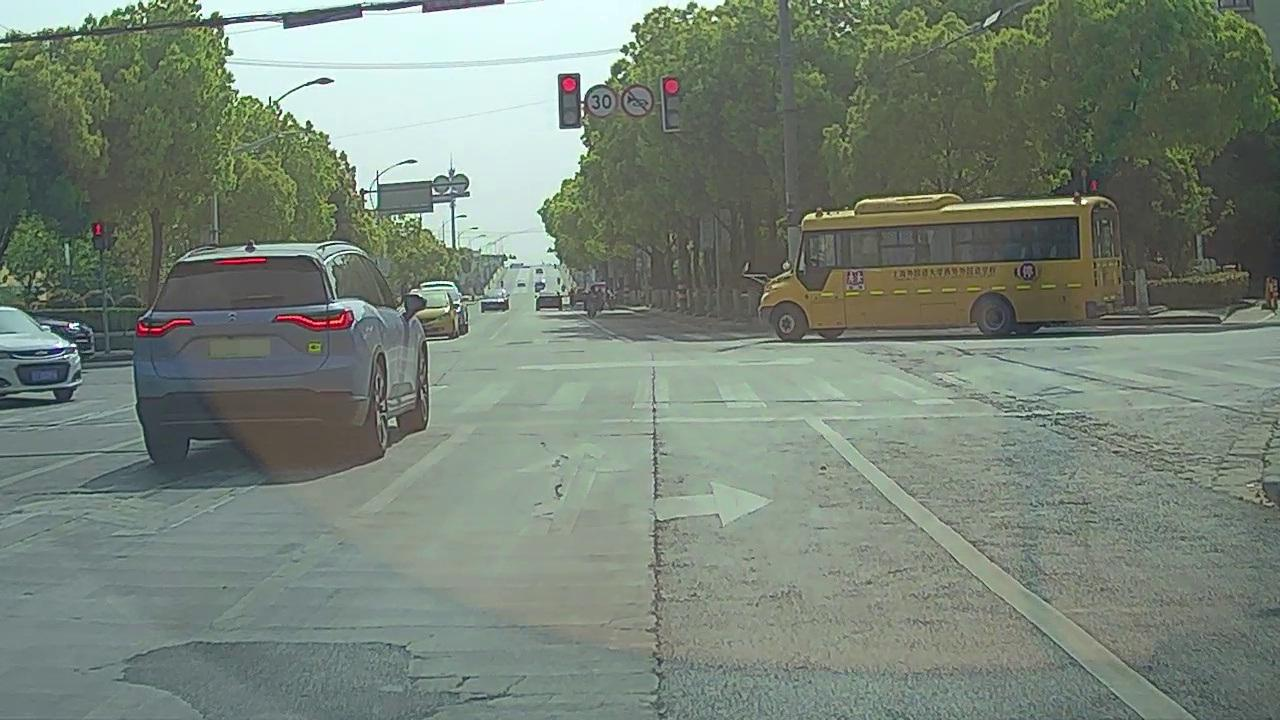traffic_light: (662, 76, 684, 130), (559, 72, 579, 127)
